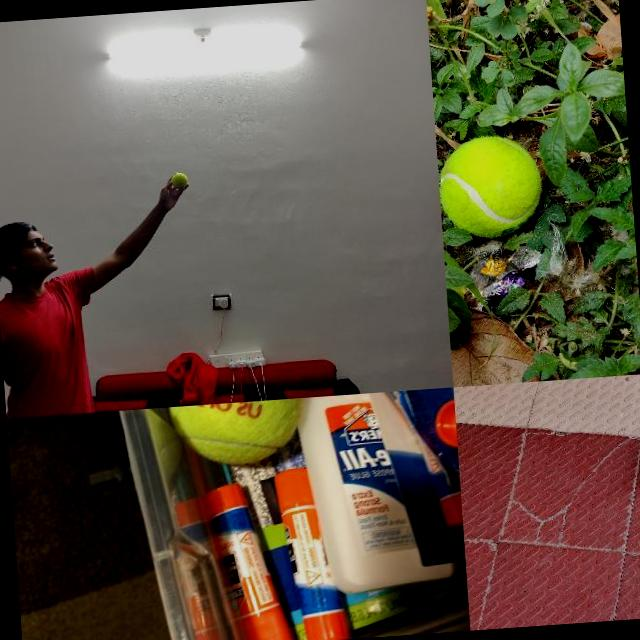Tennis Ball: (436, 133, 546, 239), (166, 397, 310, 470), (170, 171, 188, 188)
